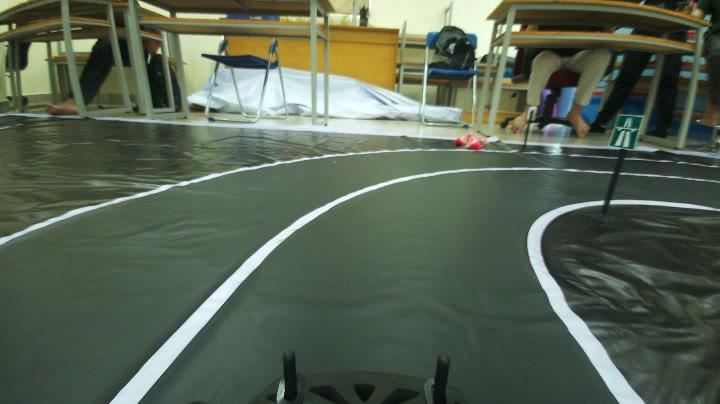highway_entry: (609, 106, 644, 156)
